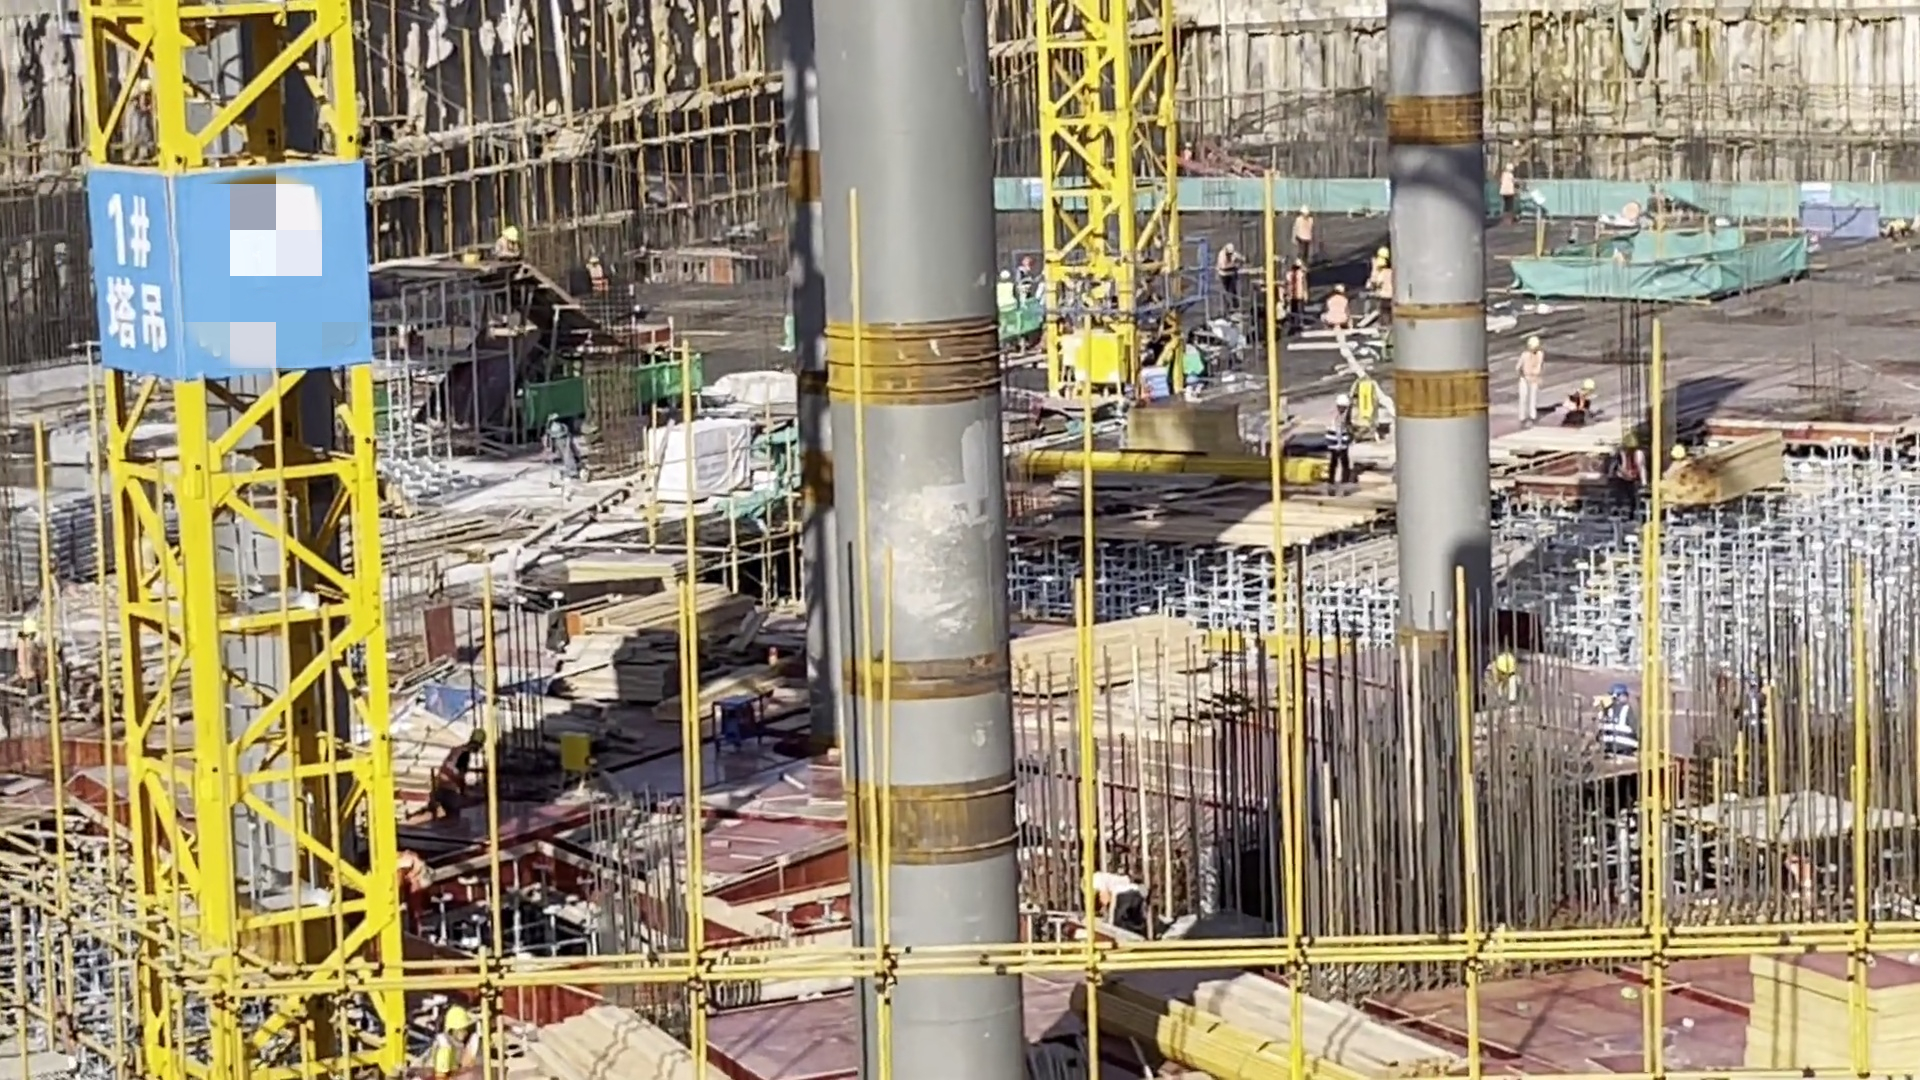helmet: (1496, 651, 1520, 678), (1332, 387, 1353, 413), (1619, 434, 1645, 455), (496, 220, 518, 241), (1327, 278, 1351, 295), (1501, 155, 1518, 180), (1580, 369, 1595, 391), (1373, 247, 1390, 266), (1220, 238, 1233, 260), (470, 727, 488, 743), (1299, 196, 1314, 216), (20, 620, 40, 633), (1526, 334, 1542, 349), (1614, 684, 1628, 702)
person: (1076, 856, 1150, 946), (438, 733, 491, 832), (1615, 429, 1653, 521), (1599, 692, 1643, 770), (1472, 655, 1536, 707), (1517, 328, 1549, 429), (1323, 393, 1357, 486), (1322, 279, 1361, 333), (1563, 376, 1598, 434), (497, 224, 539, 271), (19, 623, 47, 685), (1371, 254, 1406, 306), (1496, 159, 1526, 218), (1290, 204, 1317, 249), (1217, 247, 1241, 280)
vest: (440, 751, 468, 803), (1600, 706, 1631, 736), (1327, 412, 1350, 441)
